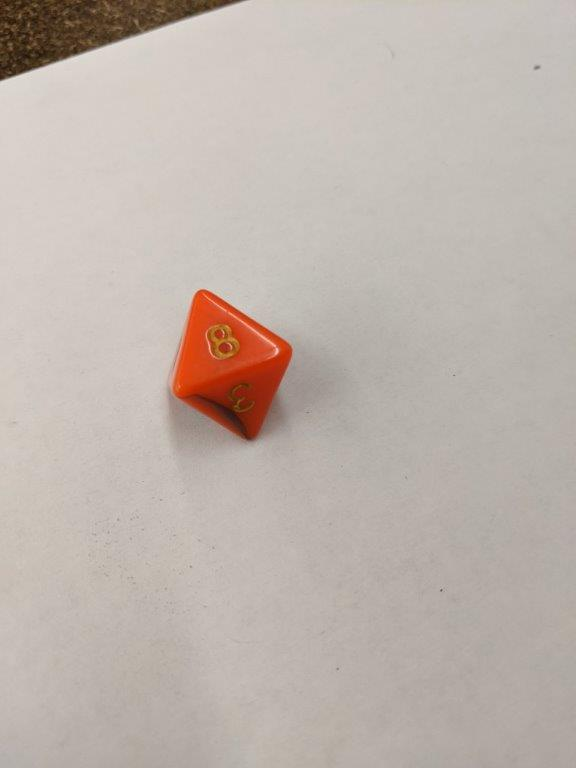d8-8: (168, 289, 294, 444)
